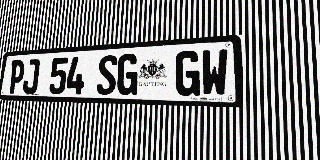4: (65, 56, 86, 95)
5: (49, 57, 68, 94)
G: (175, 50, 200, 96), (116, 53, 139, 95)
J: (22, 59, 40, 94)
P: (8, 60, 25, 94)
S: (96, 55, 118, 95)
W: (201, 49, 228, 97)
